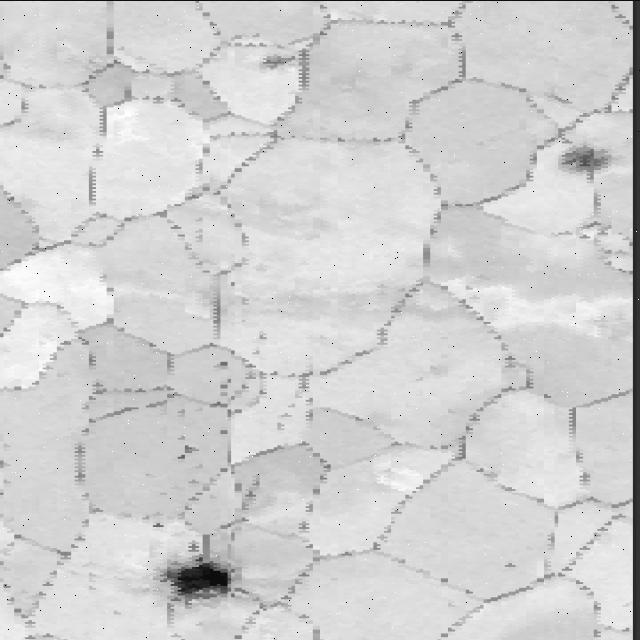good_void: (146, 554, 242, 605), (560, 140, 611, 173), (249, 45, 305, 74), (171, 444, 212, 462), (141, 519, 176, 535), (501, 558, 525, 569), (210, 358, 235, 368)
